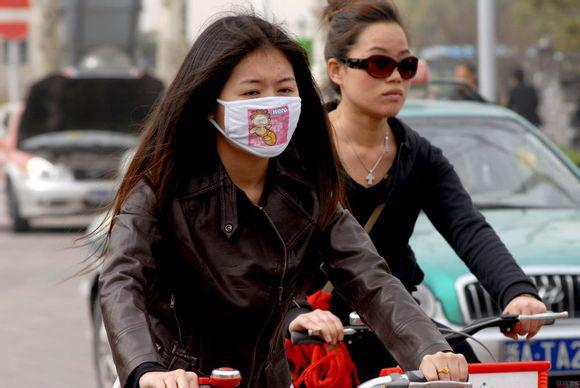NONE: (344, 38, 418, 113)
OK: (225, 71, 303, 149)
